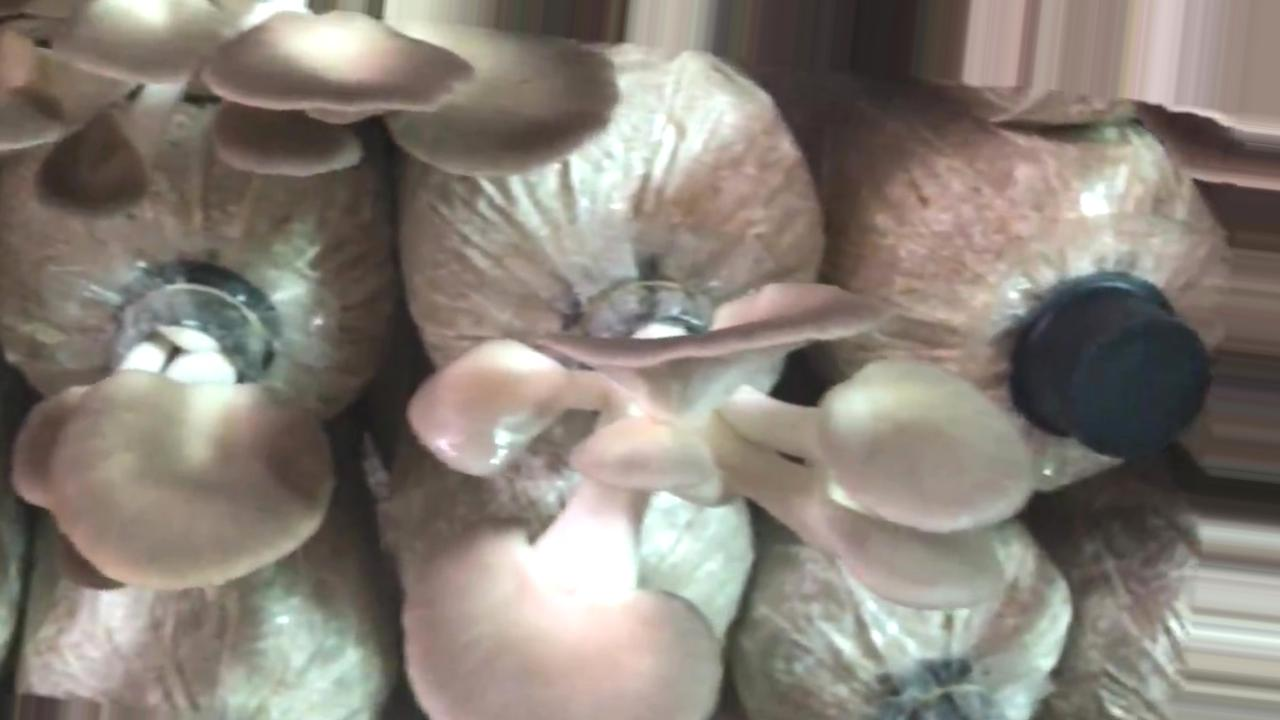nam: (400, 277, 1036, 720), (1, 1, 620, 221), (10, 270, 339, 595)
